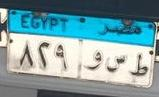2: (36, 40, 51, 69)
8: (18, 41, 31, 69)
9: (57, 42, 67, 71)
Taa: (130, 52, 150, 79)
seen: (104, 52, 129, 74)
waw: (81, 50, 104, 72)
